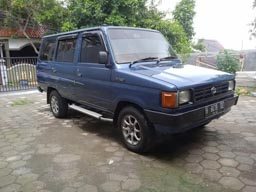plat: (205, 101, 225, 118)
